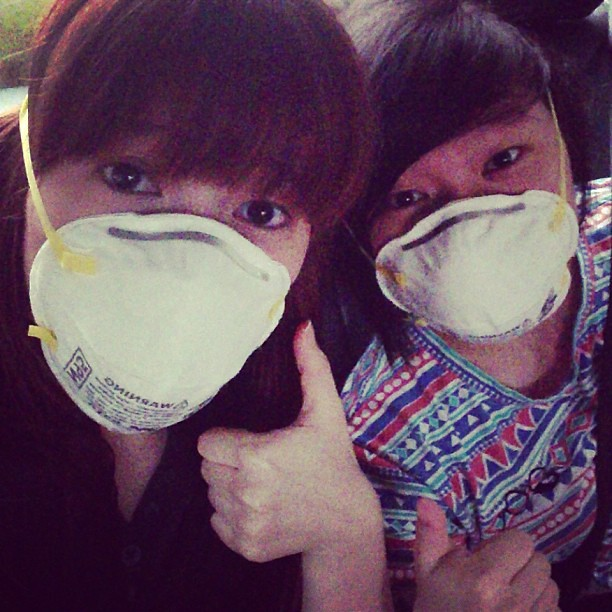n95: (28, 205, 293, 442), (361, 188, 593, 347)
